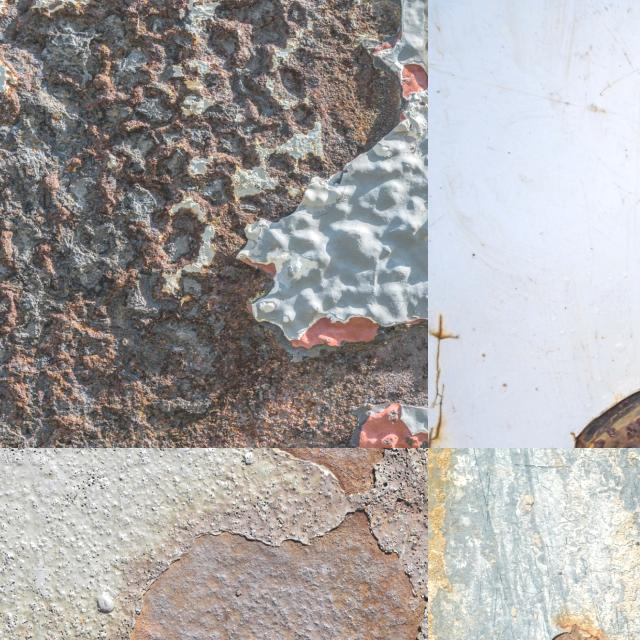Crack: (428, 314, 459, 448)
Pitting Corrosion: (0, 0, 428, 448)
Uniform Corrosion: (129, 513, 423, 640)
